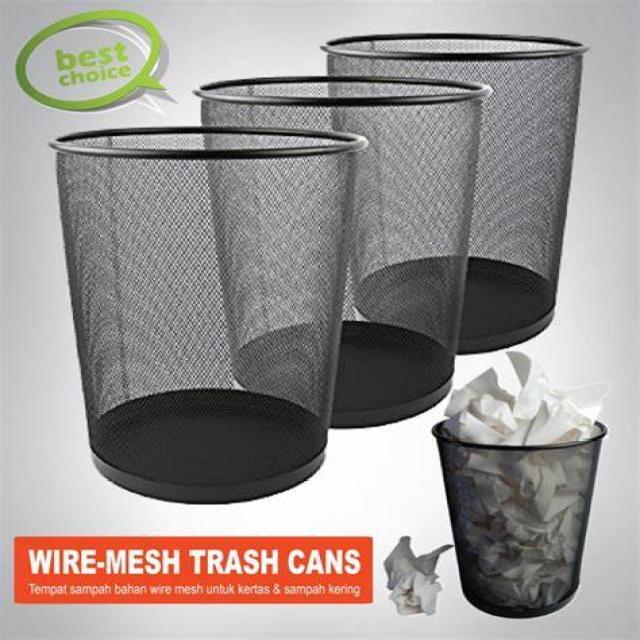garbage container: (26, 116, 374, 503), (201, 62, 461, 418), (327, 22, 604, 356), (412, 348, 640, 621)
